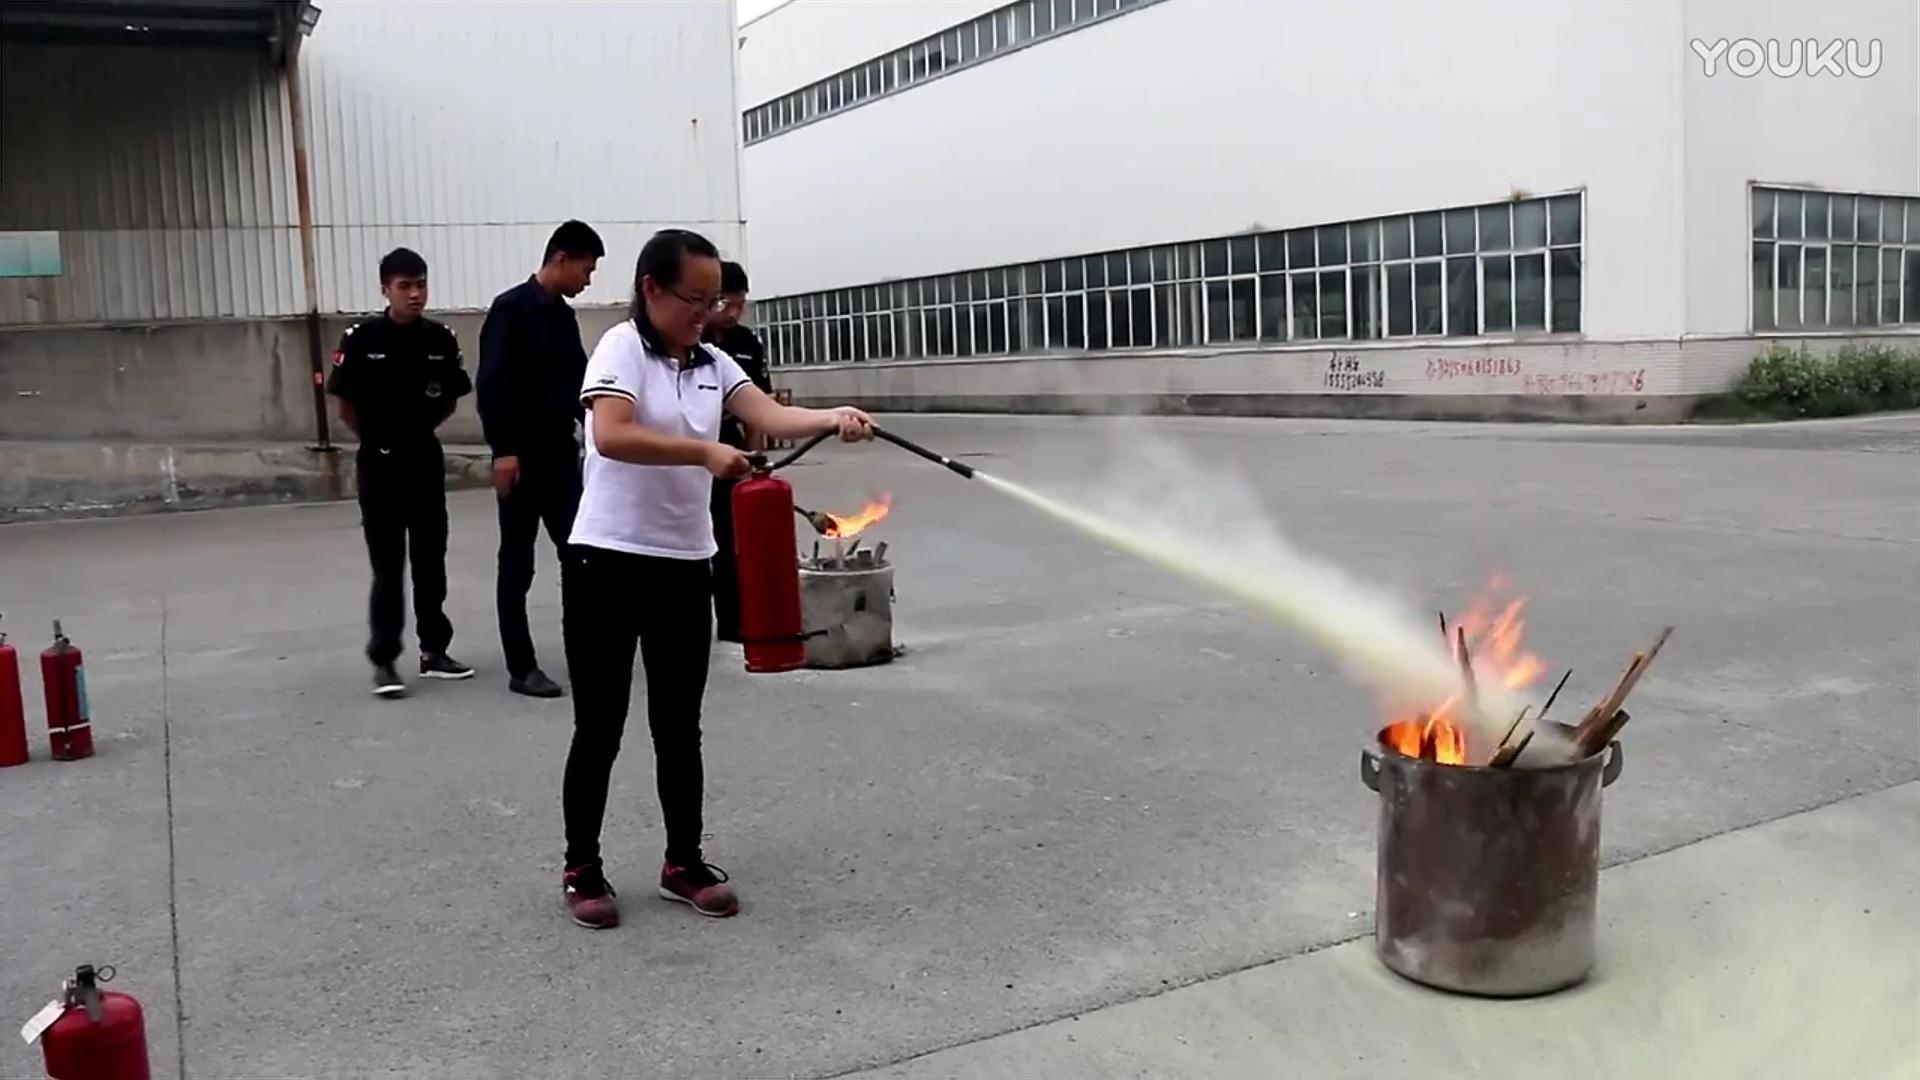fire: (1383, 576, 1544, 766), (818, 491, 895, 549)
